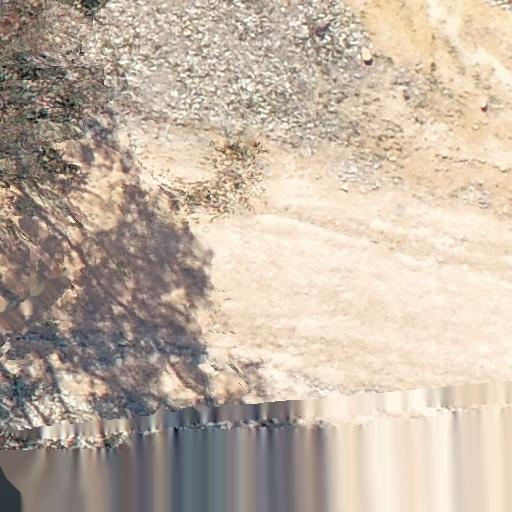stone: (359, 47, 374, 66), (478, 100, 490, 112), (373, 164, 381, 170), (480, 120, 488, 126), (473, 125, 479, 131)
